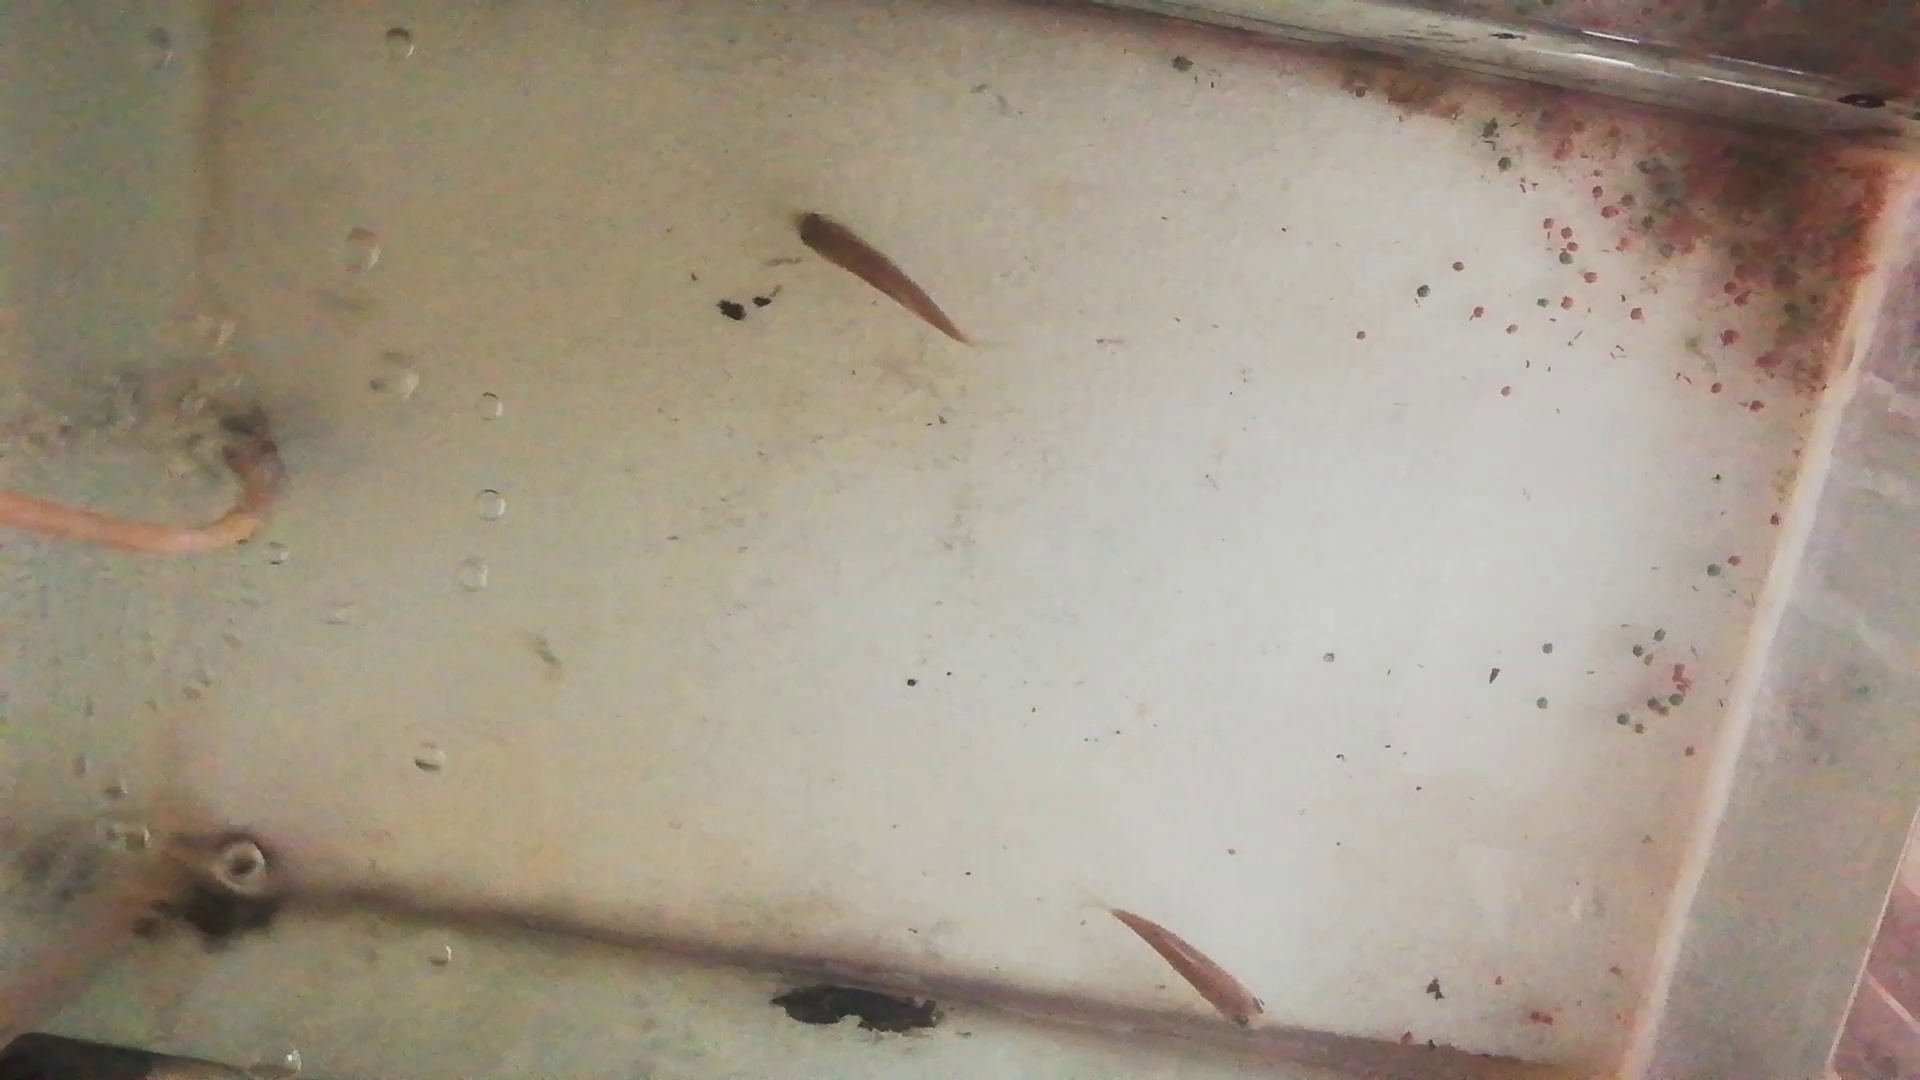fish: (789, 207, 967, 347), (1108, 906, 1275, 1036)
